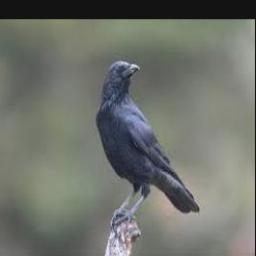Crow: (95, 60, 201, 218)
